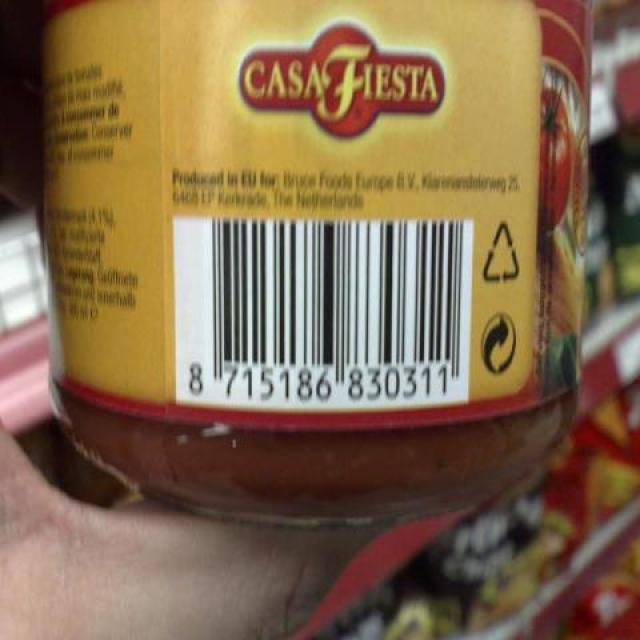Barcode: (173, 216, 470, 407)
